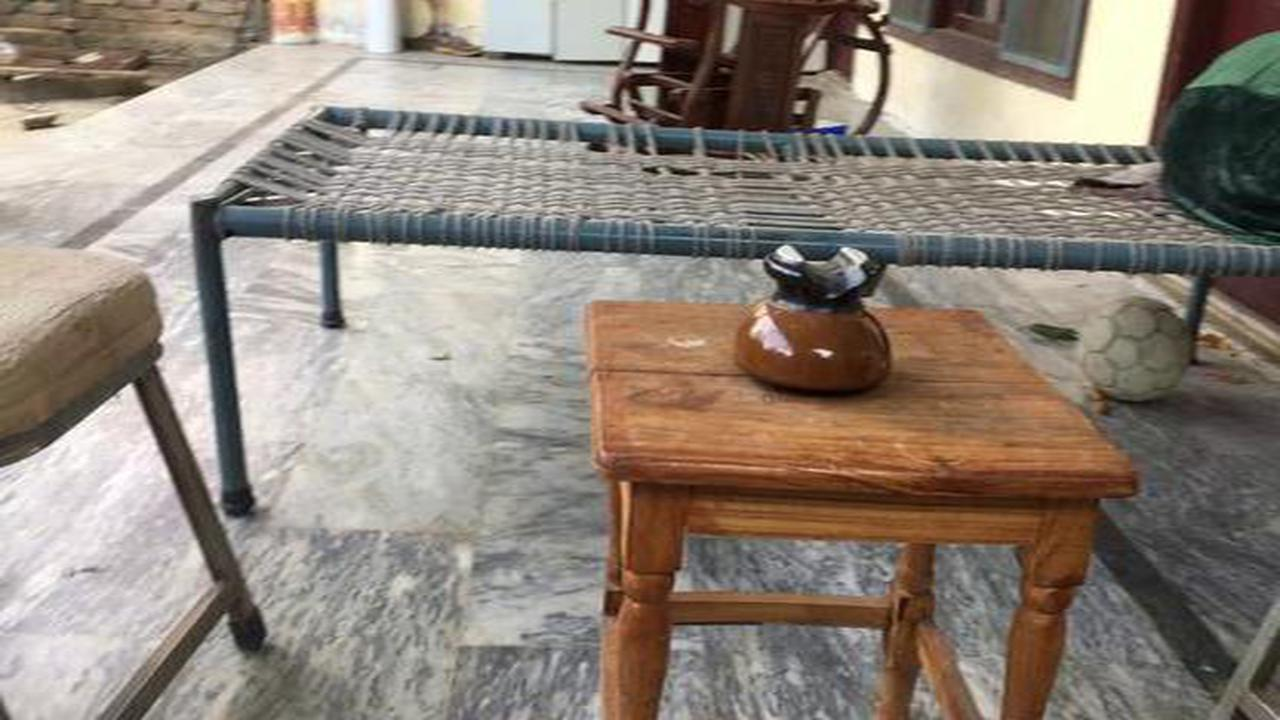insulator_pin: (702, 224, 933, 407)
